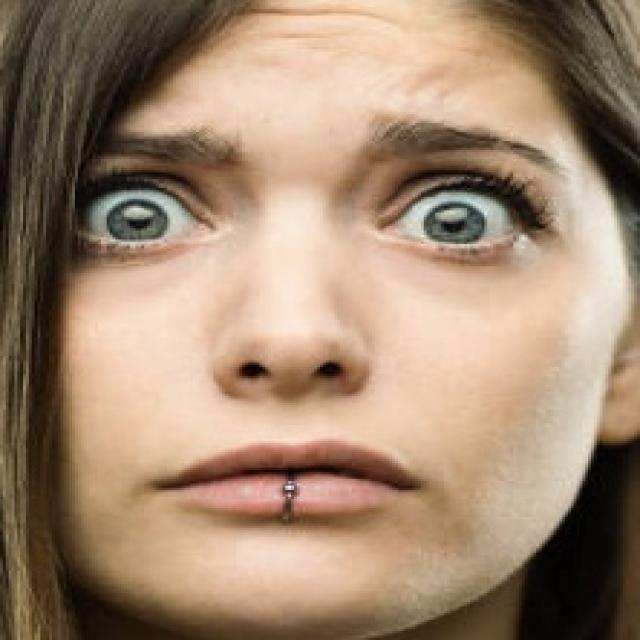Anxiety: (39, 0, 632, 638)
